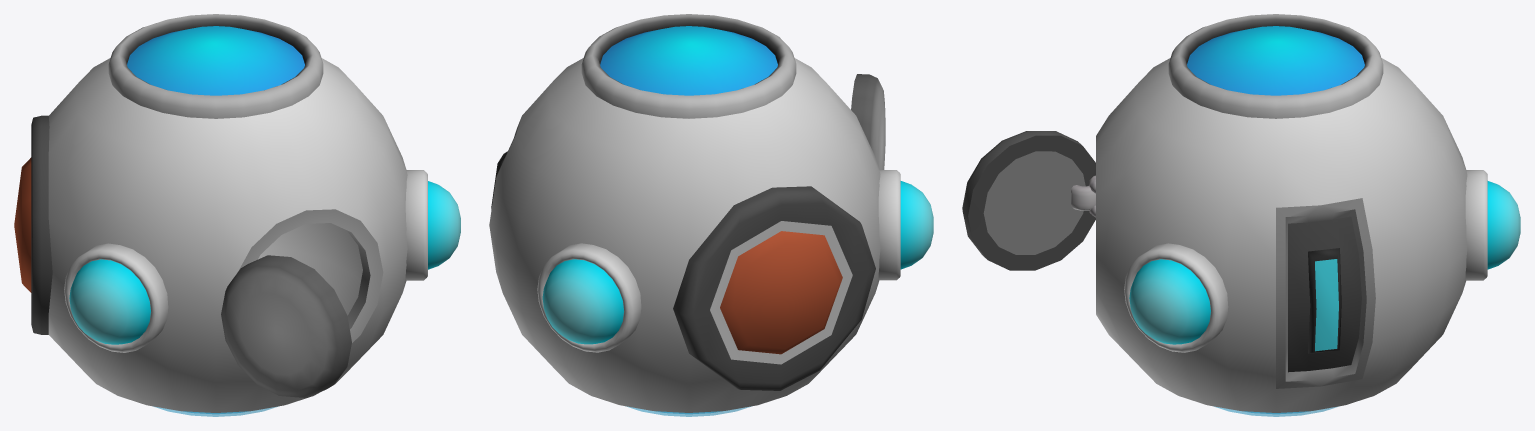
Rendered from Spacecraft_01.fbx.
The picture shows the model from 3 angles, left to right: view 1: azimuth 30°, elevation 25°; view 2: azimuth 150°, elevation 25°; view 3: azimuth 270°, elevation 25°; orthographic projection.
Parts seen in each view (by area): view 1: Spacecraft_01; view 2: Spacecraft_01; view 3: Spacecraft_01.
Boxes of the visible parts, bbox=[...] form: Spacecraft_01: bbox=[14, 14, 460, 416]; Spacecraft_01: bbox=[489, 14, 933, 416]; Spacecraft_01: bbox=[962, 14, 1520, 416].
Bounding box in the file's own units: 290 × 260 × 368.
